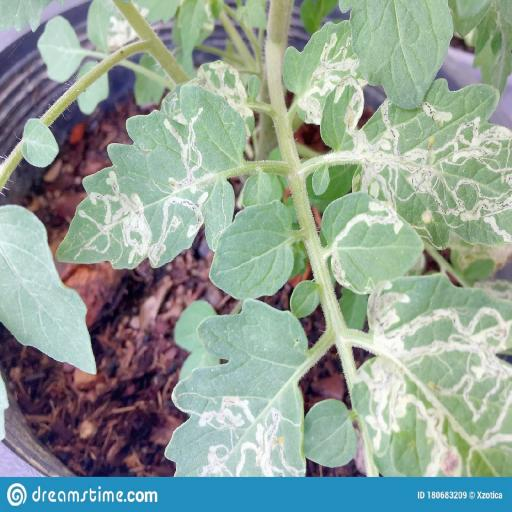disease_tomato: (54, 87, 247, 271), (320, 70, 512, 250), (350, 270, 512, 476), (162, 294, 311, 476), (322, 190, 426, 296), (282, 18, 370, 127)
